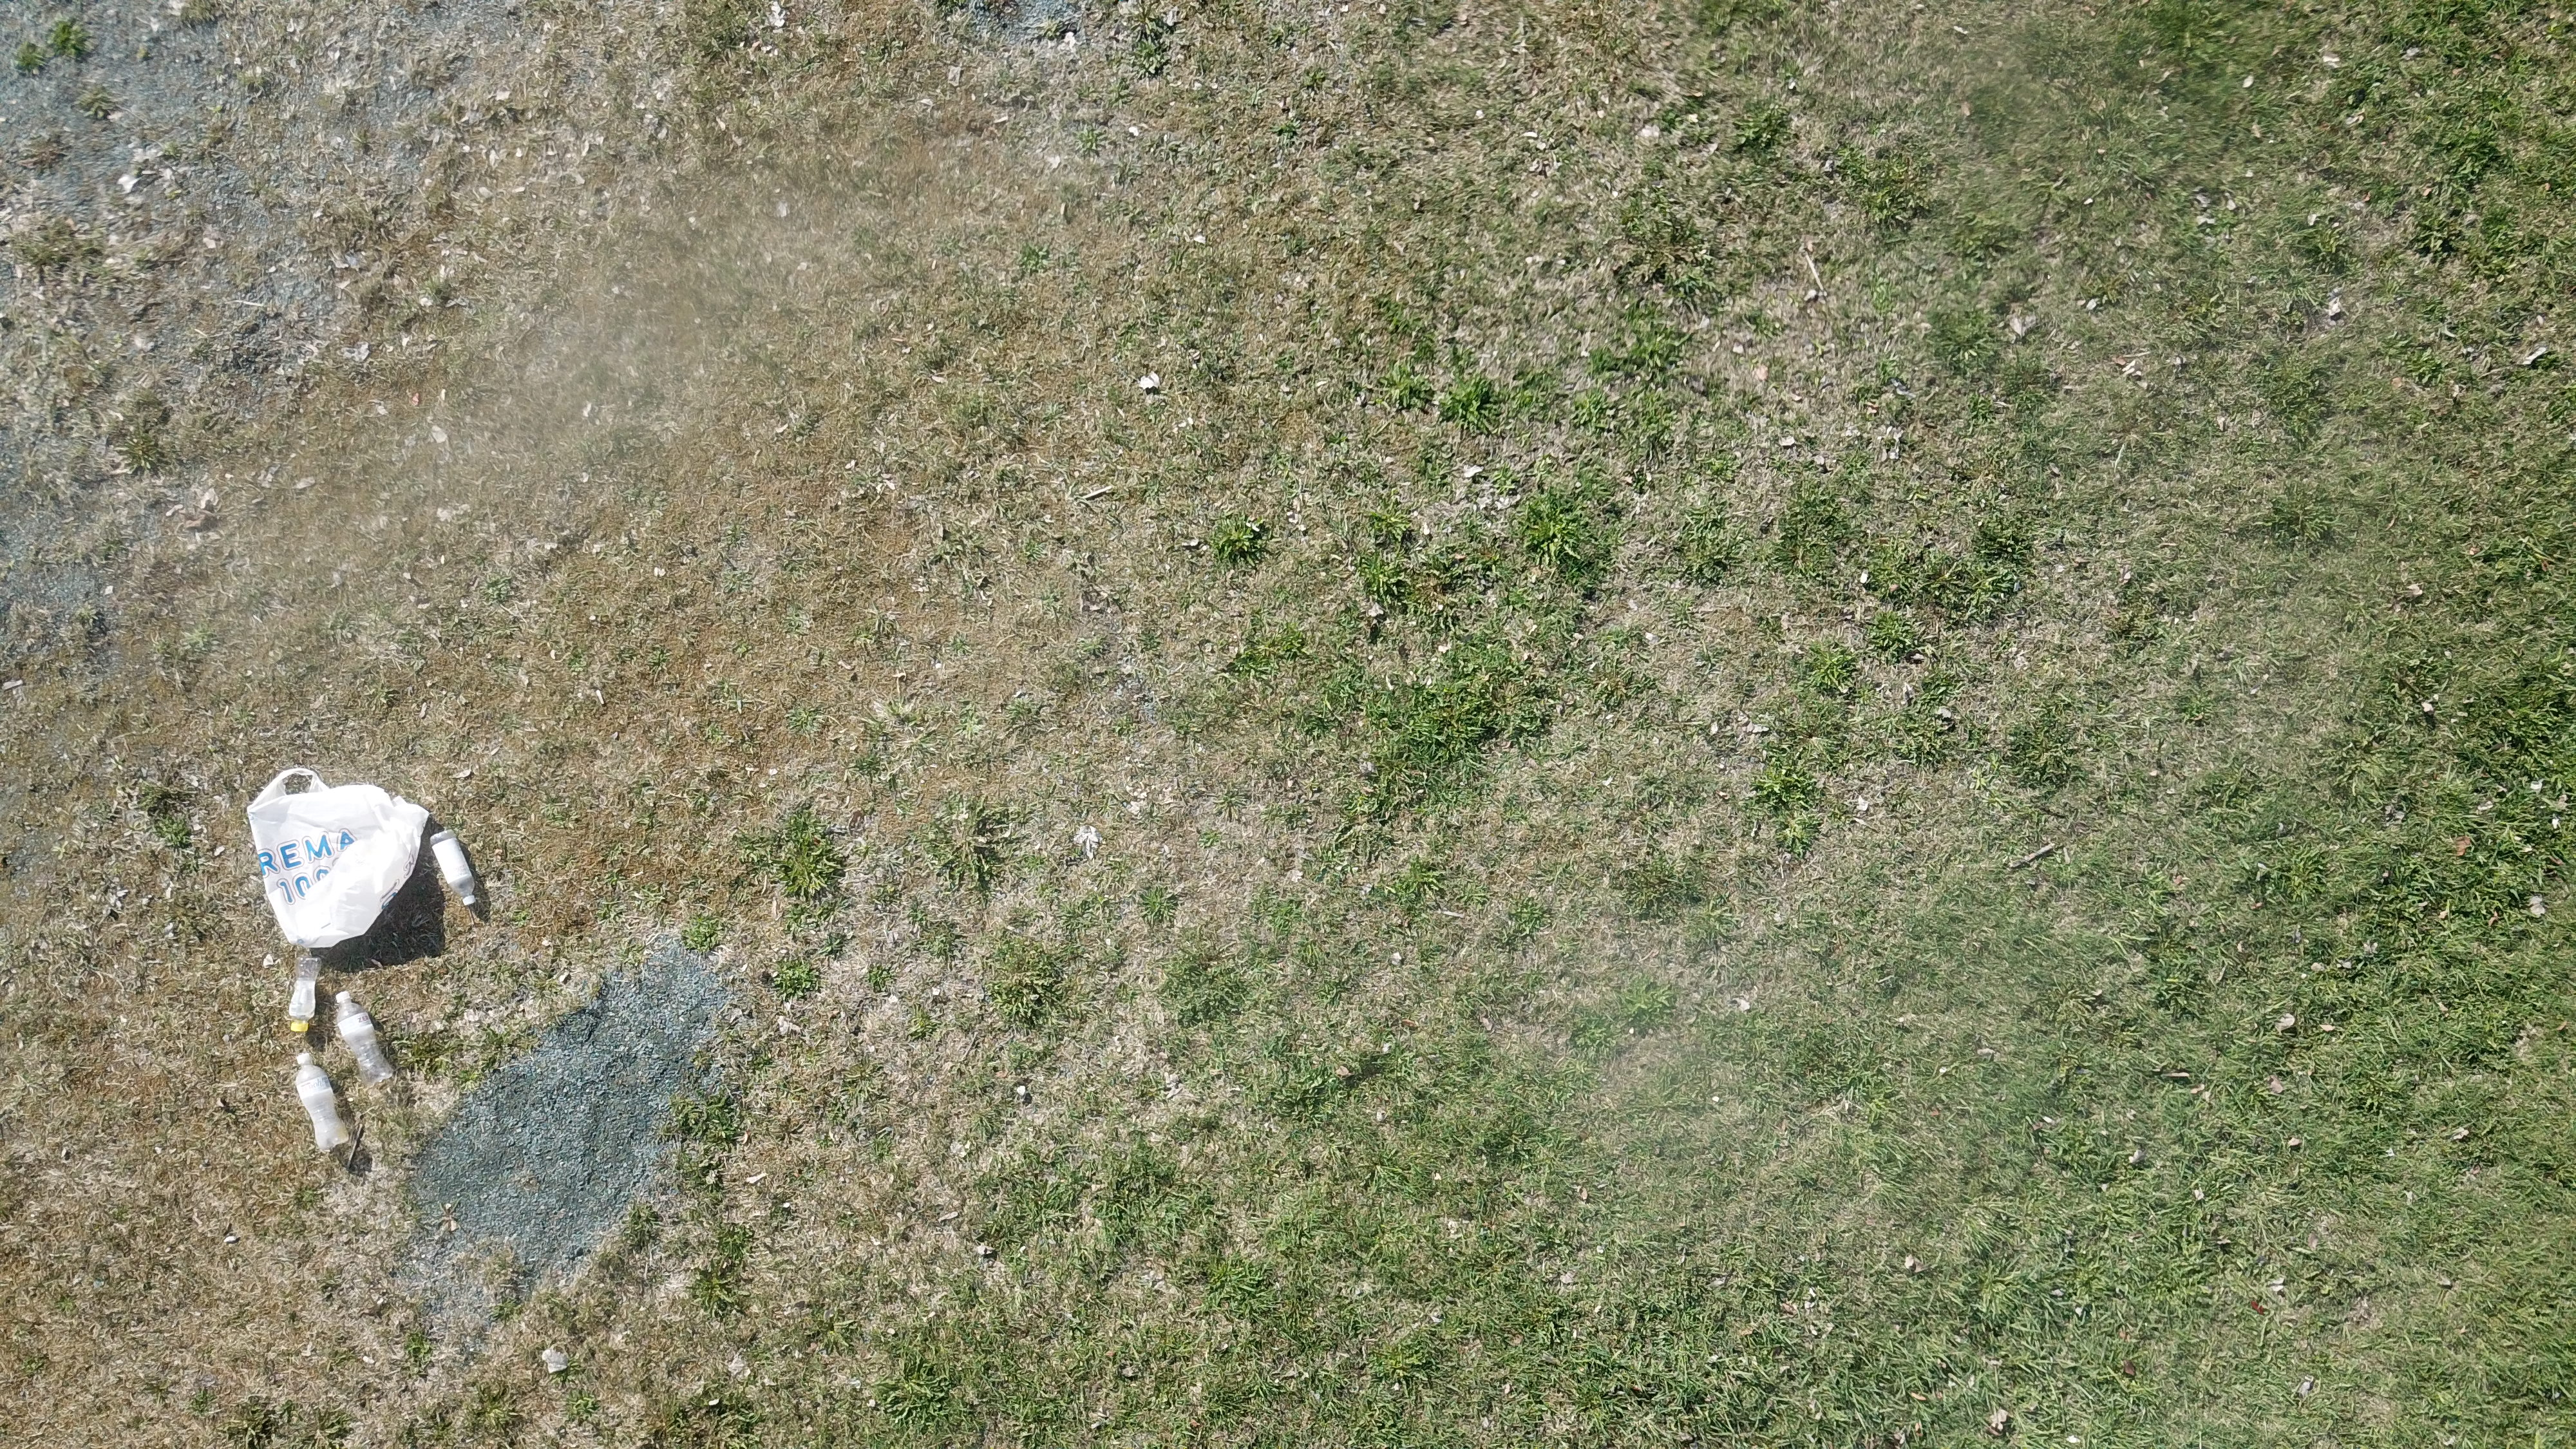Plastic: (248, 770, 432, 948)
PlasticBottle: (334, 993, 396, 1088), (295, 1054, 350, 1150), (428, 828, 476, 908), (288, 955, 324, 1031)
